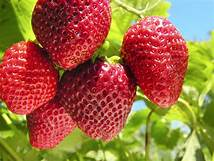Fresa: (58, 49, 141, 145), (119, 13, 195, 110), (28, 1, 118, 73), (1, 38, 63, 117), (22, 83, 80, 154)
